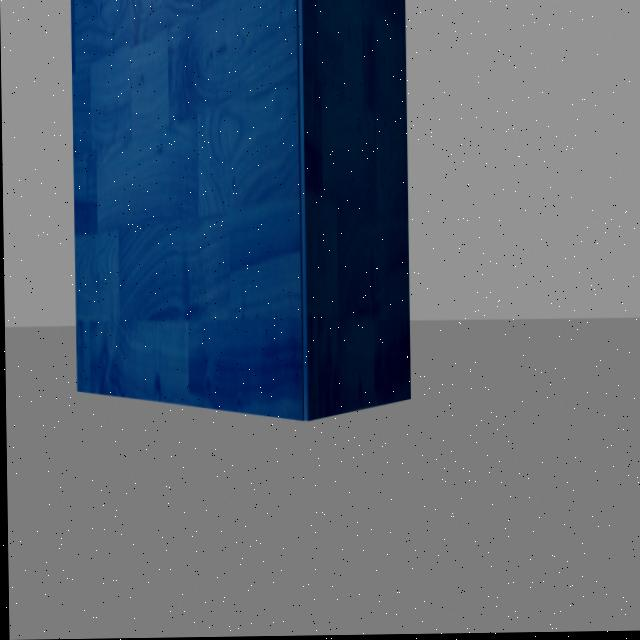shelf: (63, 0, 419, 432)
